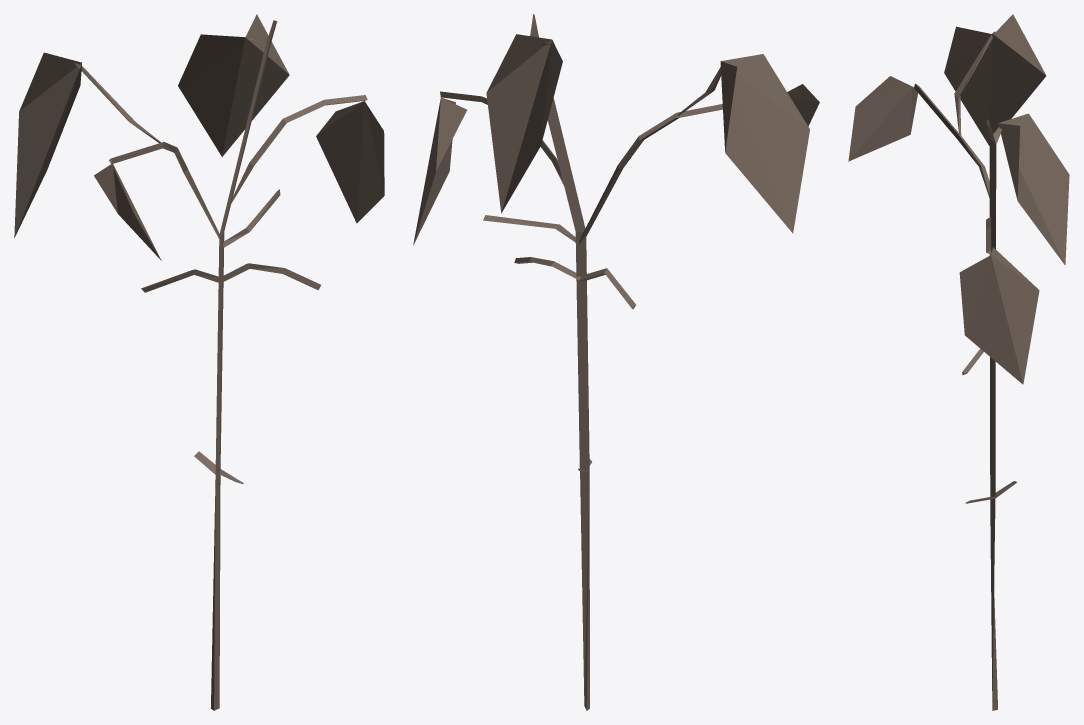
The model's file is Peppers_8.fbx.
3 views of the same model, side by side, from view 1: azimuth 30°, elevation 25°; view 2: azimuth 150°, elevation 25°; view 3: azimuth 270°, elevation 25° (orthographic). The views are drawn at different scales.
Parts seen in each view (by area): view 1: Peppers_8; view 2: Peppers_8; view 3: Peppers_8.
Part boxes in pixels (x1,y1,x2,y2): Peppers_8: (14, 14, 384, 710); Peppers_8: (413, 14, 819, 710); Peppers_8: (848, 14, 1069, 710).
Size of the model in its own units: 42.75 by 77.91 by 24.97.
